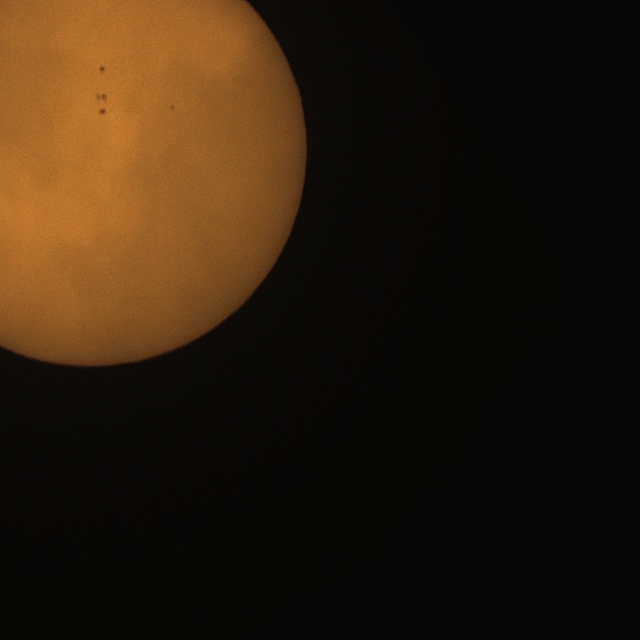sunspot: (95, 91, 110, 115), (98, 65, 106, 76), (169, 104, 176, 112)
